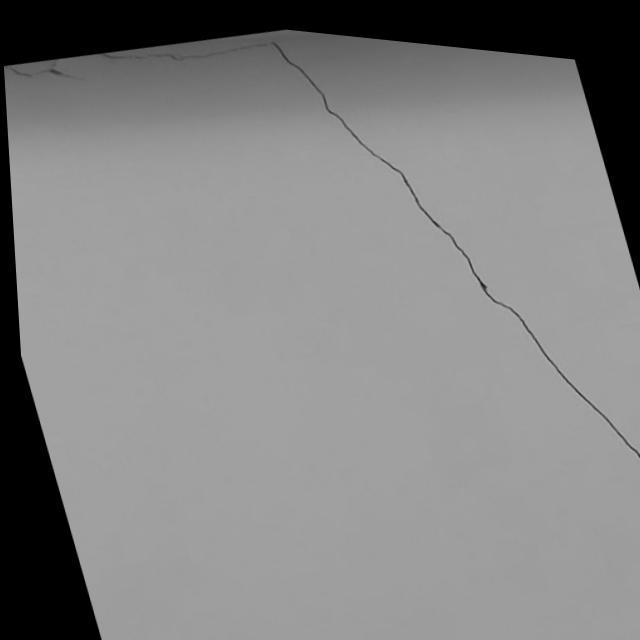Crack: (294, 60, 574, 390)
